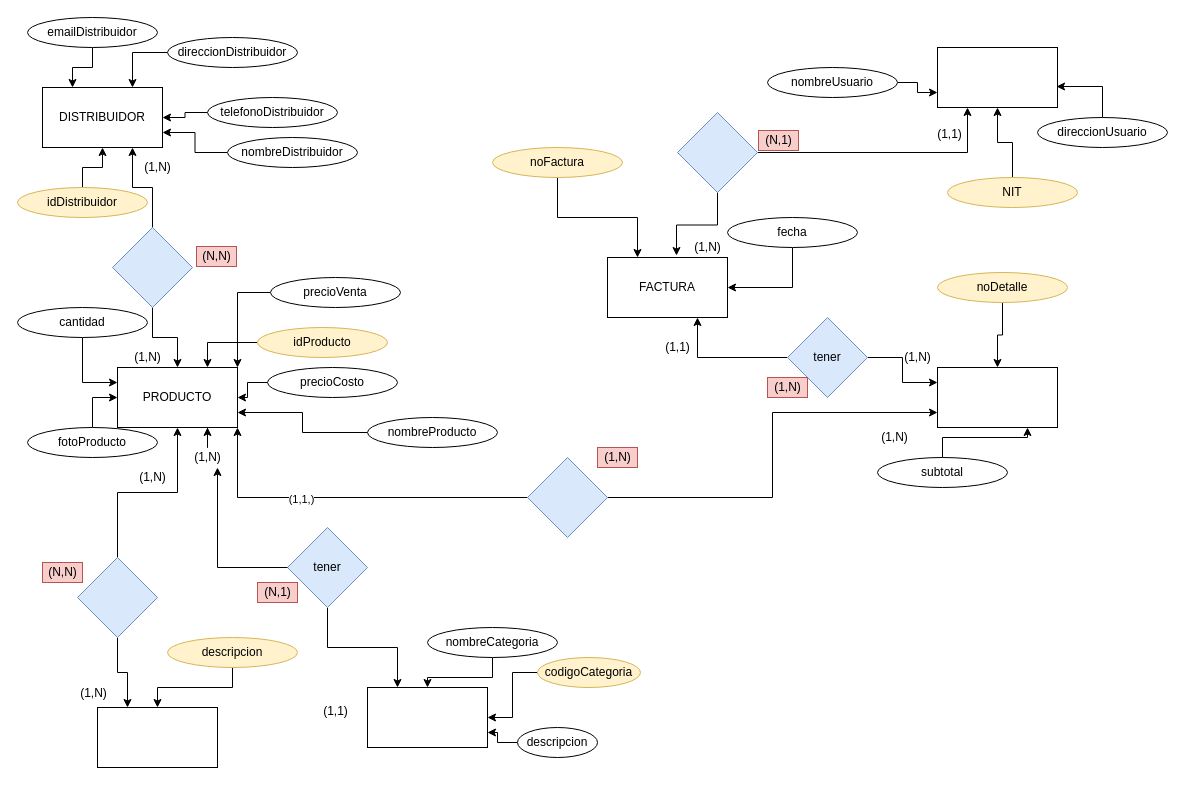
The diagram is 1185 pixels wide and 785 high, and some of its shapes have lost their labels. The centre of each missing label's shape, as x and y in pixels:
"CATEGORIA" goes at (x=427, y=717).
"DETALLE" goes at (x=997, y=397).
"distribuir" goes at (x=152, y=267).
"estar" goes at (x=567, y=497).
"facturar" goes at (x=717, y=152).
"MEDIDA" goes at (x=157, y=737).
"medir" goes at (x=117, y=597).
"USUARIO" goes at (x=997, y=77).
